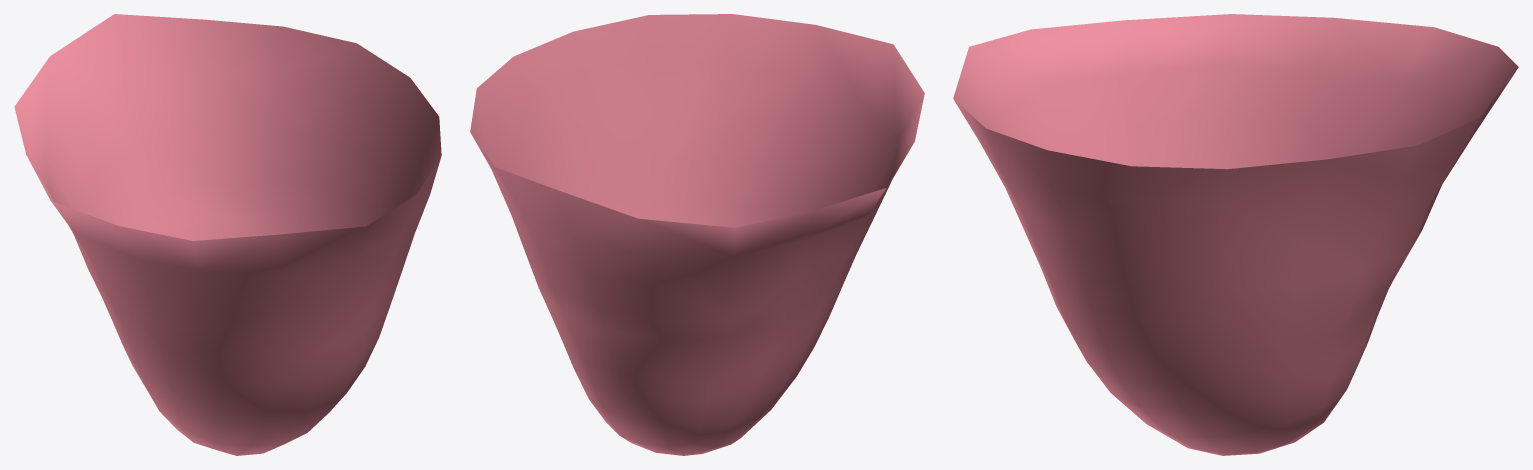
The model's file is pieizqpat.obj.
3 renders of one model, left to right at view 1: azimuth 30°, elevation 25°; view 2: azimuth 150°, elevation 25°; view 3: azimuth 270°, elevation 25°, orthographic. The views are drawn at different scales.
Visible parts, largest first — view 1: Object006; view 2: Object006; view 3: Object006.
Part boxes in pixels (bbox=[...]): Object006: bbox=[14, 14, 441, 455]; Object006: bbox=[470, 14, 924, 455]; Object006: bbox=[953, 14, 1518, 455].
Size of the model in its own units: 1.48 by 1.33 by 1.8.
